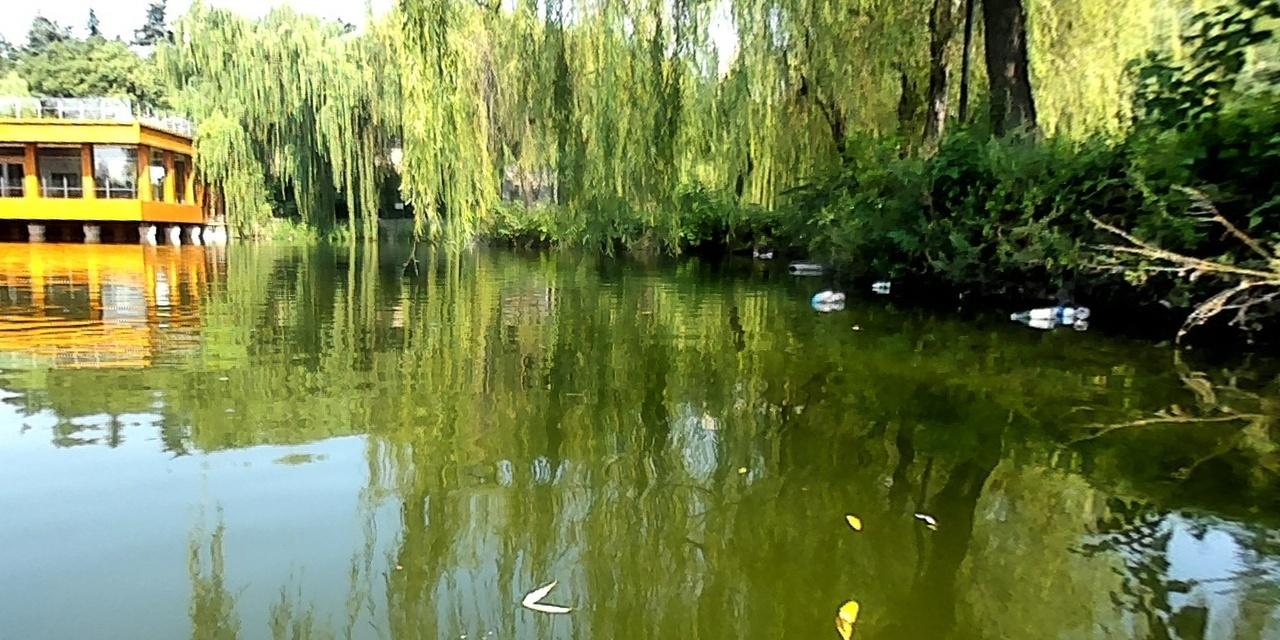bottle: (1007, 305, 1057, 325), (809, 290, 842, 305), (1075, 305, 1089, 321), (872, 280, 889, 292)
